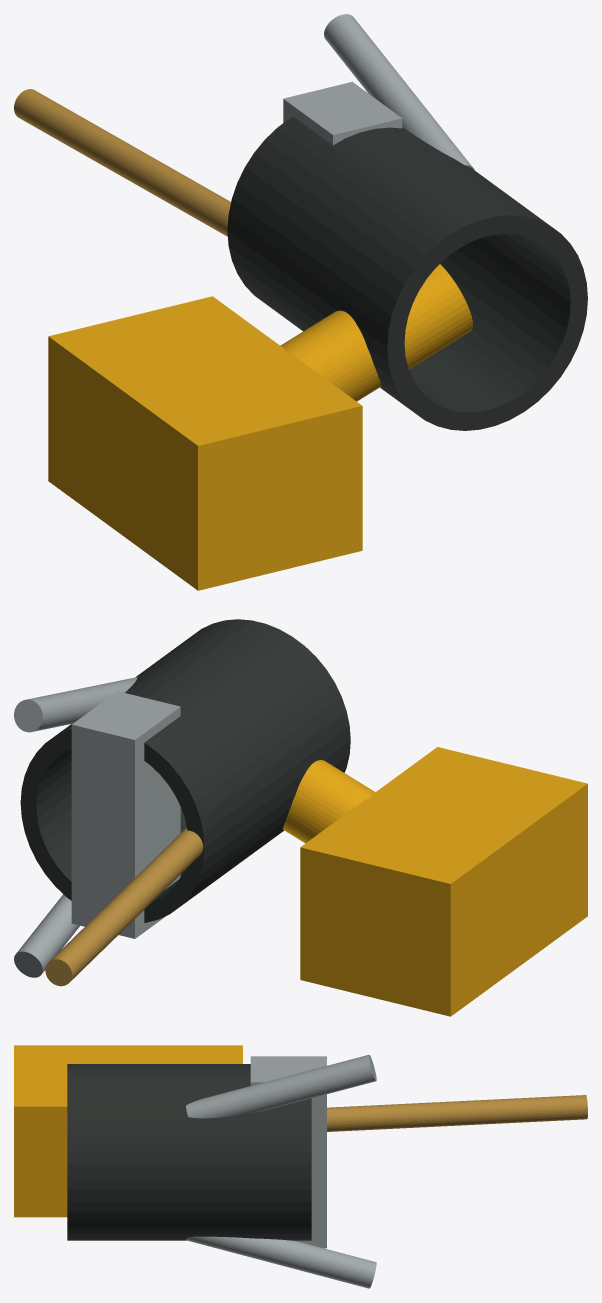
The model's file is duckbill_feed_link.obj.
The picture shows the model from 3 angles, top to bottom: view 1: azimuth 30°, elevation 25°; view 2: azimuth 150°, elevation 25°; view 3: azimuth 270°, elevation 25°; orthographic projection. The views are drawn at different scales.
Visible parts, largest first — view 1: carriage_4, housing_0, water_nozzle_3, jaw_actuators_2, hinge_brackets_1; view 2: carriage_4, housing_0, hinge_brackets_1, water_nozzle_3, jaw_actuators_2; view 3: housing_0, carriage_4, jaw_actuators_2, water_nozzle_3, hinge_brackets_1.
Boxes of the visible parts, left/top/right/bottom form: carriage_4: left=48, top=264, right=472, bottom=590; housing_0: left=227, top=116, right=587, bottom=430; water_nozzle_3: left=14, top=89, right=230, bottom=236; jaw_actuators_2: left=324, top=14, right=474, bottom=170; hinge_brackets_1: left=283, top=81, right=402, bottom=145; carriage_4: left=283, top=747, right=587, bottom=1016; housing_0: left=20, top=619, right=350, bottom=922; hinge_brackets_1: left=71, top=691, right=180, bottom=938; water_nozzle_3: left=45, top=827, right=203, bottom=986; jaw_actuators_2: left=14, top=677, right=137, bottom=977; housing_0: left=67, top=1064, right=311, bottom=1240; carriage_4: left=14, top=1045, right=242, bottom=1217; jaw_actuators_2: left=186, top=1054, right=376, bottom=1288; water_nozzle_3: left=327, top=1095, right=587, bottom=1131; hinge_brackets_1: left=250, top=1056, right=326, bottom=1248.
Bounding box in the file's own units: 0.2455 × 0.1736 × 0.3759.
